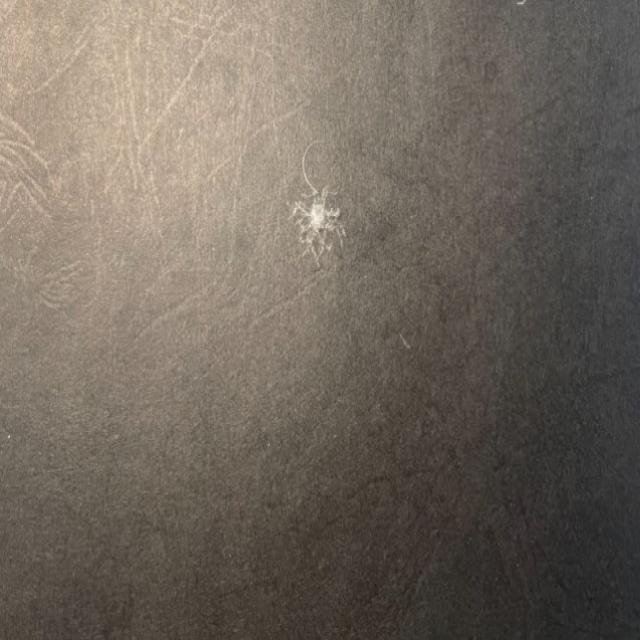feather: (286, 158, 359, 264)
